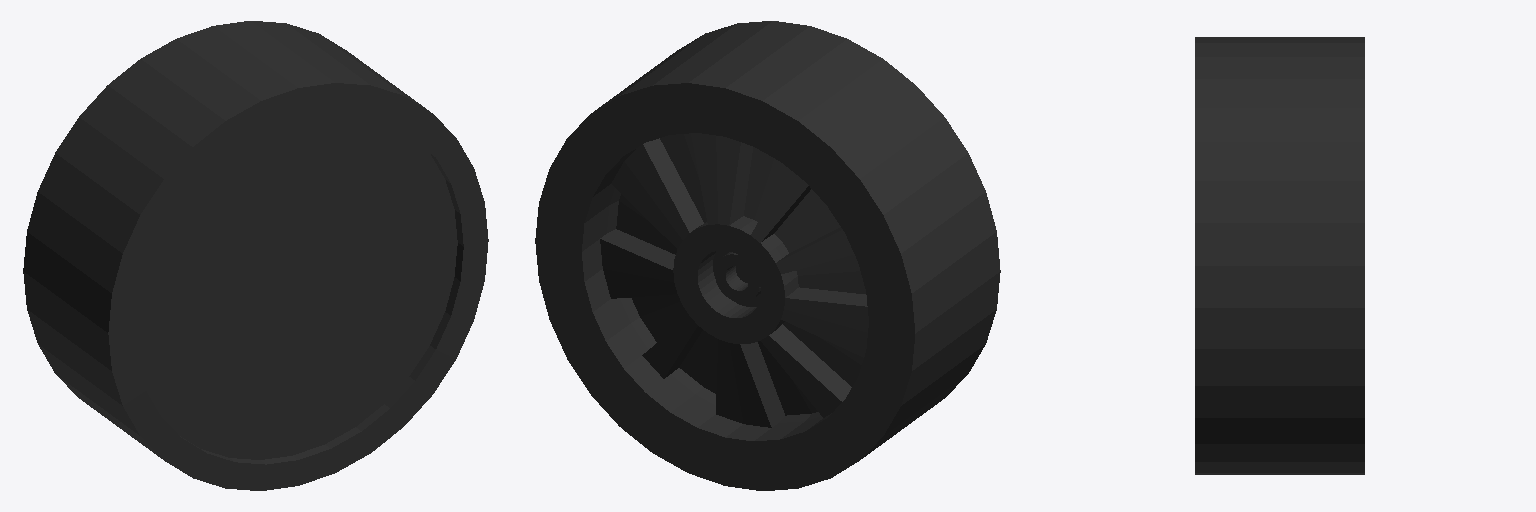
File: camionnete_roue.obj
3 renders of one model, left to right at view 1: azimuth 30°, elevation 25°; view 2: azimuth 150°, elevation 25°; view 3: azimuth 270°, elevation 25°, orthographic.
Parts seen in each view (by area): view 1: roue_Cylinder; view 2: roue_Cylinder; view 3: roue_Cylinder.
Part boxes in pixels (x1,y1,x2,y2): roue_Cylinder: (23, 21, 488, 490); roue_Cylinder: (535, 21, 1000, 490); roue_Cylinder: (1195, 37, 1364, 474).
Size of the model in its own units: 14.18 by 14.18 by 5.51.